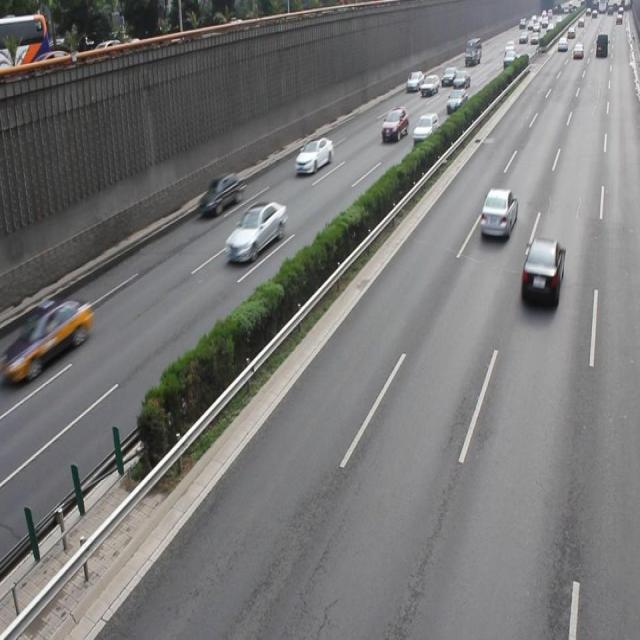car: (17, 293, 91, 374), (223, 199, 286, 263), (519, 237, 562, 305), (198, 172, 243, 218), (478, 186, 517, 238), (294, 136, 332, 172)
